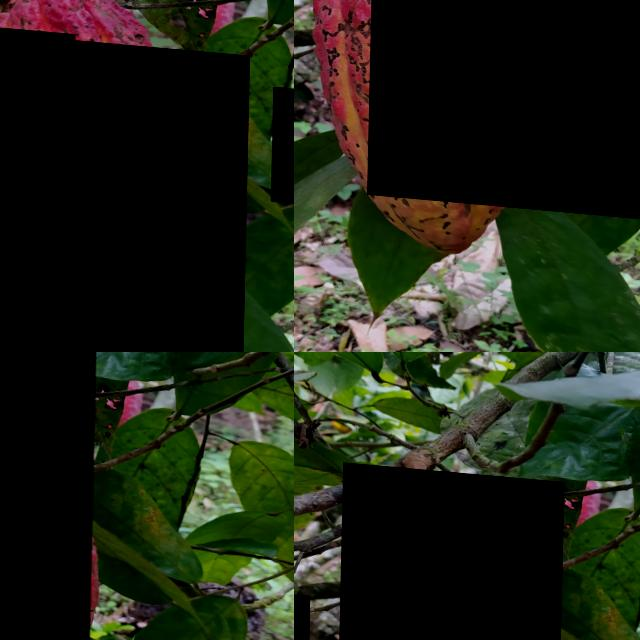Monilia: (0, 17, 76, 352)
Sana: (65, 35, 251, 352), (369, 0, 640, 212), (338, 459, 564, 640), (0, 352, 97, 640), (273, 78, 294, 197), (294, 590, 311, 640)
